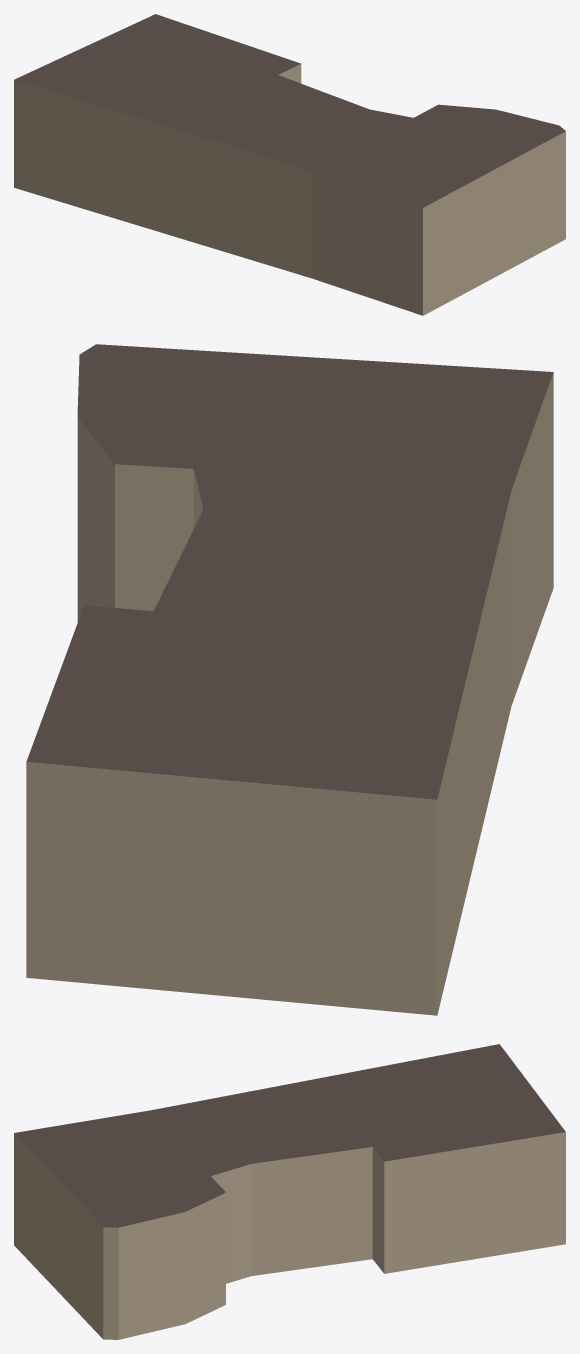
The picture shows the model from 3 angles, top to bottom: view 1: azimuth 30°, elevation 25°; view 2: azimuth 150°, elevation 25°; view 3: azimuth 270°, elevation 25°; orthographic projection. The views are drawn at different scales.
Parts seen in each view (by area): view 1: HP-w1197009293; view 2: HP-w1197009293; view 3: HP-w1197009293.
Part boxes in pixels (bbox=[...]): HP-w1197009293: bbox=[14, 14, 565, 315]; HP-w1197009293: bbox=[26, 344, 553, 1015]; HP-w1197009293: bbox=[14, 1044, 565, 1339].
Size of the model in its own units: 31.58 by 9 by 40.1.
